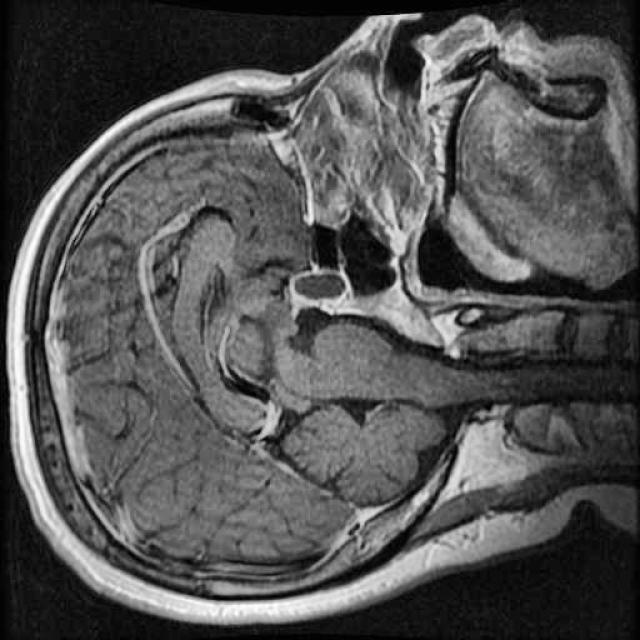Tumor: (279, 260, 358, 314)
